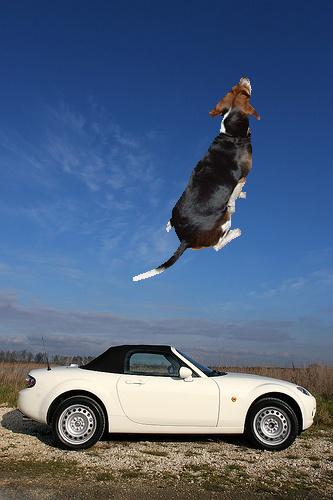tampered: (133, 77, 260, 281)
